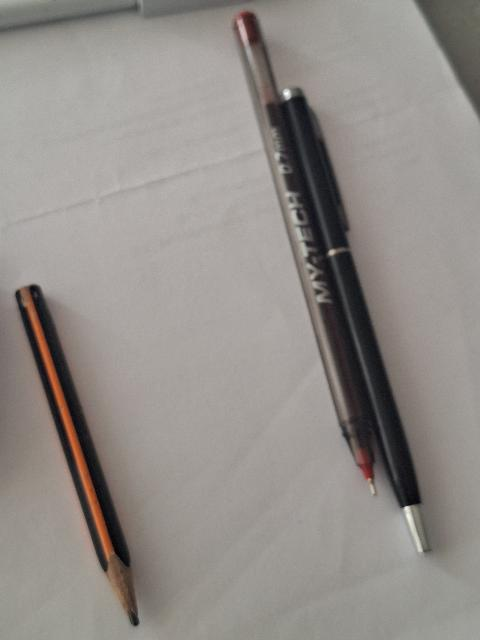writing_tool: (278, 83, 433, 559), (235, 13, 381, 496), (9, 284, 153, 632)
